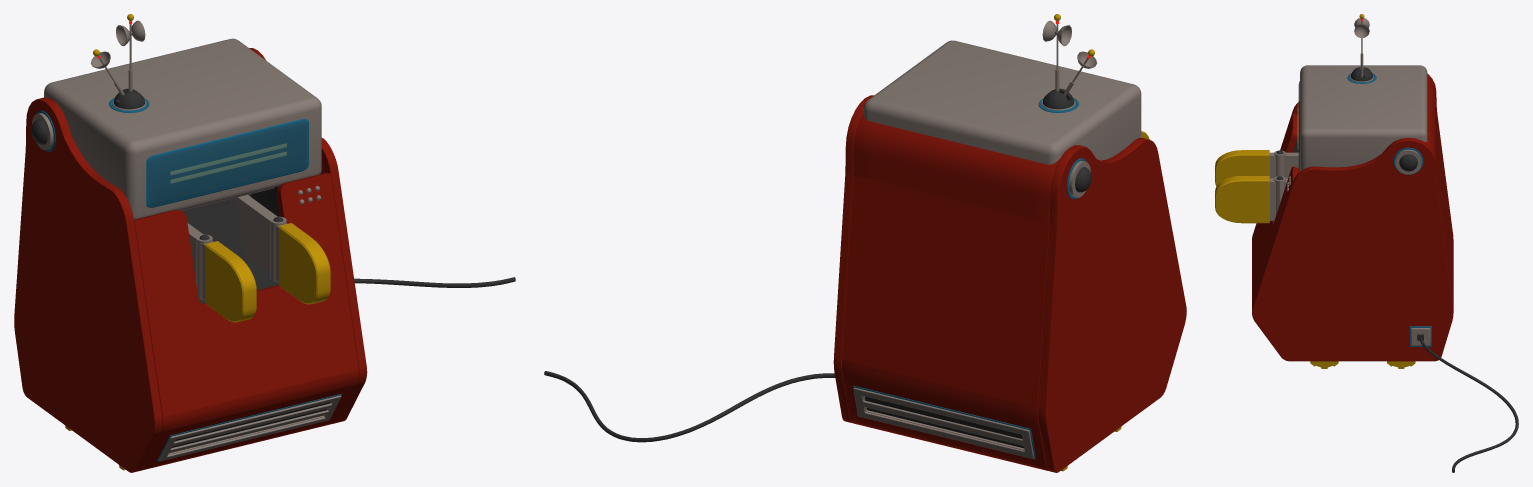
The model's file is clappy_ref_merged__003.gltf.
3 views of the same model, side by side, from view 1: azimuth 30°, elevation 25°; view 2: azimuth 150°, elevation 25°; view 3: azimuth 270°, elevation 25° (orthographic). The views are drawn at different scales.
Visible parts, largest first — view 1: clappy.ref.merged..003; view 2: clappy.ref.merged..003; view 3: clappy.ref.merged..003.
Part boxes in pixels (x1,y1,x2,y2): clappy.ref.merged..003: (14, 14, 515, 472); clappy.ref.merged..003: (544, 14, 1186, 472); clappy.ref.merged..003: (1215, 14, 1518, 472).
Size of the model in its own units: 2.51 by 2.01 by 1.8.
